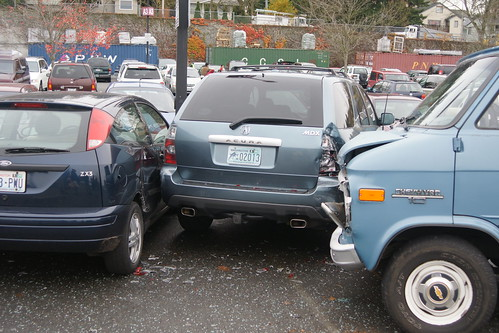car: (323, 45, 499, 319), (167, 63, 376, 242), (1, 88, 161, 278), (42, 62, 96, 92)
